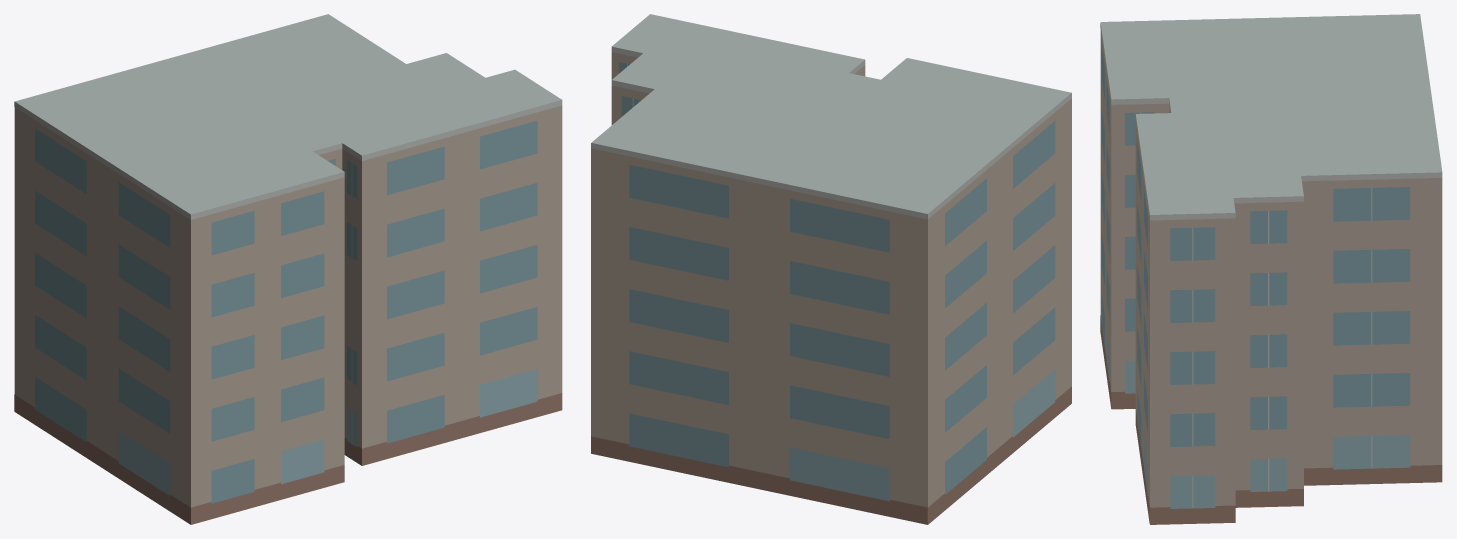
The model's file is survey-upis-33044363.glb.
The picture shows the model from 3 angles, left to right: view 1: azimuth 30°, elevation 25°; view 2: azimuth 150°, elevation 25°; view 3: azimuth 270°, elevation 25°; orthographic projection.
Visible parts, largest first — view 1: survey-upis-33044363.tmp; view 2: survey-upis-33044363.tmp; view 3: survey-upis-33044363.tmp.
Boxes of the visible parts, <box> form: survey-upis-33044363.tmp: <box>14,14,562,524</box>; survey-upis-33044363.tmp: <box>591,14,1071,524</box>; survey-upis-33044363.tmp: <box>1100,14,1442,524</box>.
Size of the model in its own units: 19.35 by 13.9 by 13.91.
